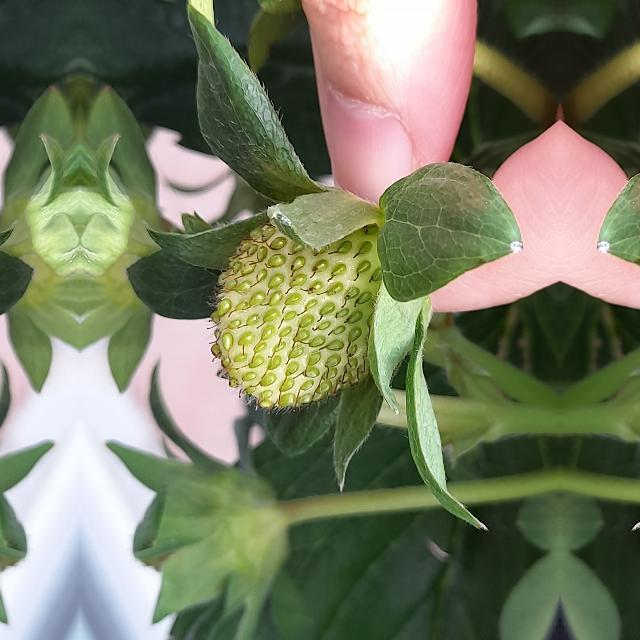Health_25: (205, 219, 397, 413)
